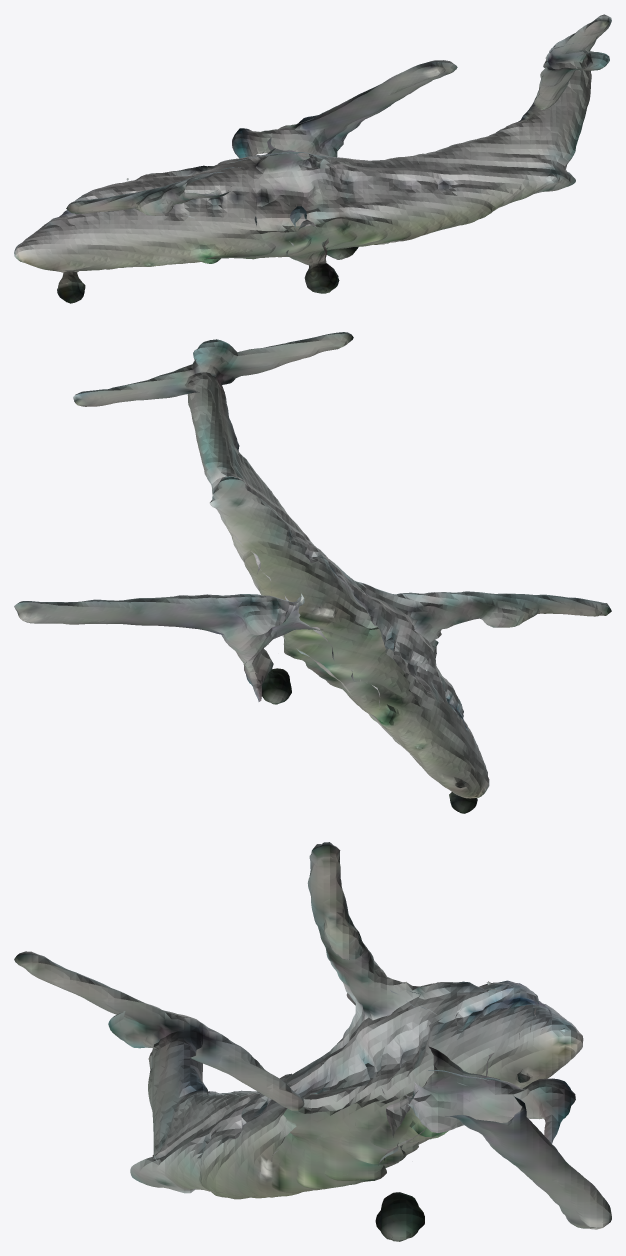
3 views of the same model, one above another, from view 1: azimuth 30°, elevation 25°; view 2: azimuth 150°, elevation 25°; view 3: azimuth 270°, elevation 25° (orthographic). The views are drawn at different scales.
Parts seen in each view (by area): view 1: geometry_0; view 2: geometry_0; view 3: geometry_0.
Boxes of the visible parts, bbox=[...] form: geometry_0: bbox=[14, 14, 611, 303]; geometry_0: bbox=[14, 332, 611, 813]; geometry_0: bbox=[14, 842, 611, 1241].
Size of the model in its own units: 1.6 by 0.752 by 1.13.
